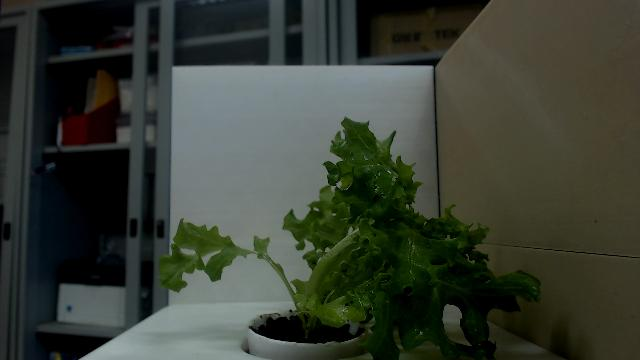Harvest Stage: (156, 114, 542, 360)
